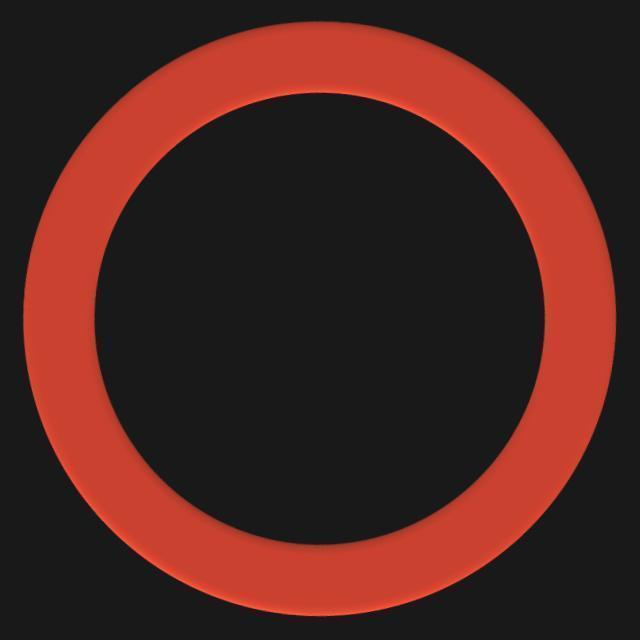Circle: (19, 16, 620, 620)
